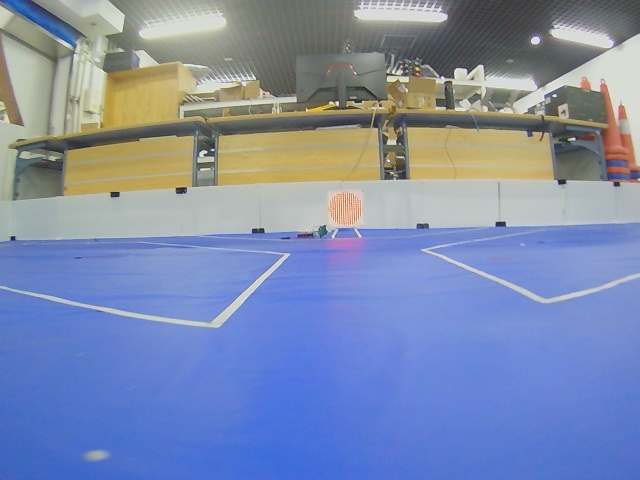red: (328, 191, 363, 228)
